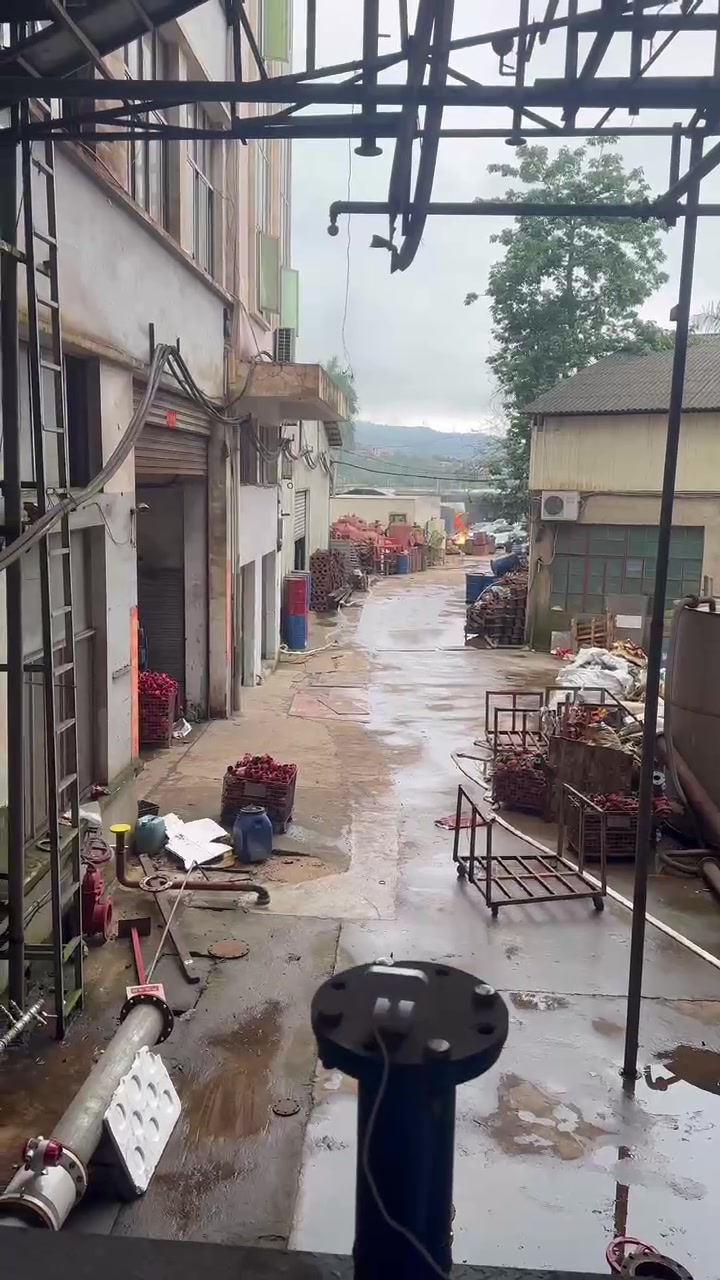fire: (454, 532, 464, 544)
